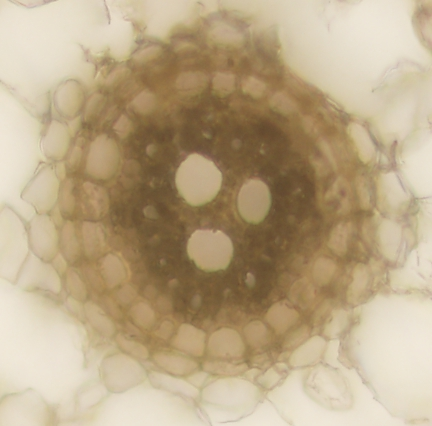lm: (175, 153, 223, 207), (186, 227, 233, 273), (236, 178, 273, 226)
